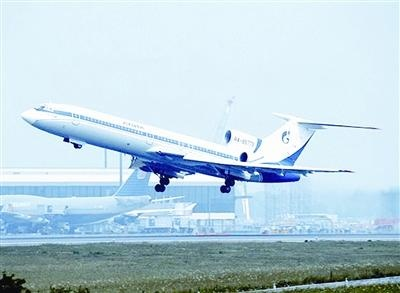airplane: (20, 98, 382, 194)
